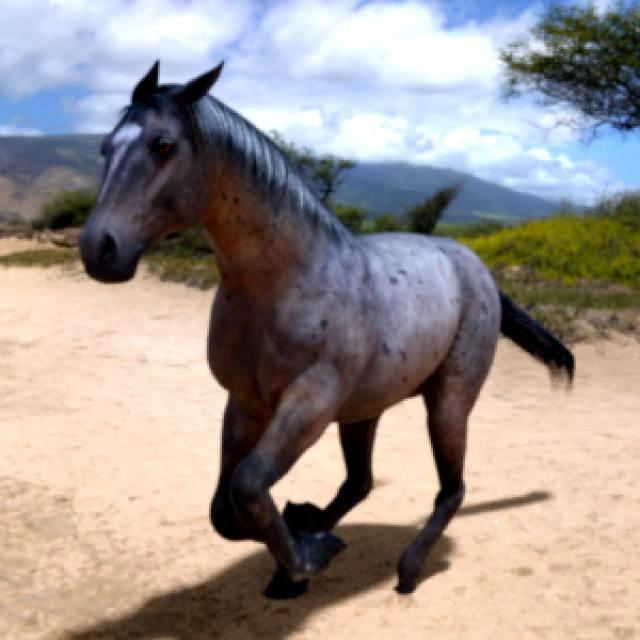horse: (80, 64, 572, 596)
